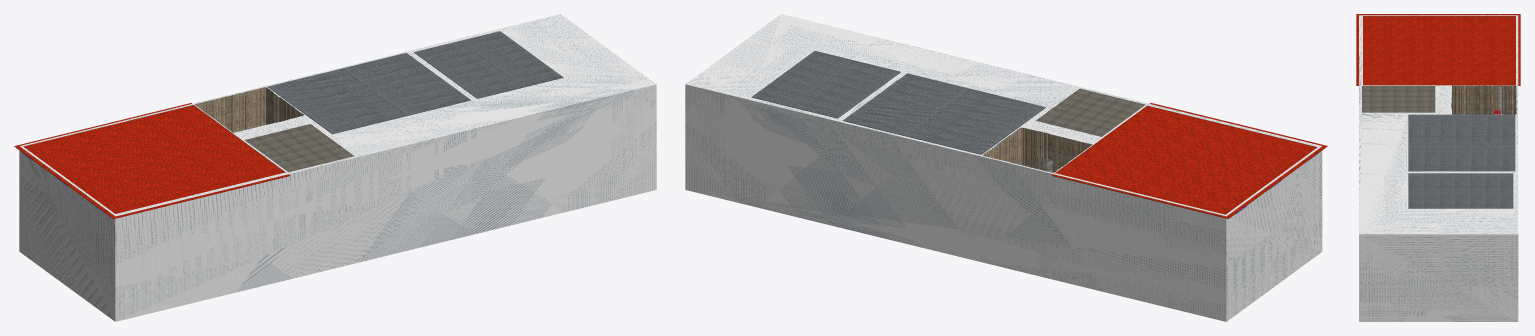
The model's file is roomWithRoof.dae.
3 renders of one model, left to right at view 1: azimuth 30°, elevation 25°; view 2: azimuth 150°, elevation 25°; view 3: azimuth 270°, elevation 25°, orthographic. The views are drawn at different scales.
Visible parts, largest first — view 1: room (×2), roof1 (×4); view 2: room (×2), roof1 (×4); view 3: room (×5), roof1 (×4).
Boxes of the visible parts, left/top/right/bottom form: room (×2): left=19, top=14, right=656, bottom=321; roof1 (×4): left=14, top=31, right=563, bottom=218; room (×2): left=685, top=14, right=1322, bottom=321; roof1 (×4): left=751, top=51, right=1327, bottom=218; room (×5): left=1359, top=15, right=1518, bottom=321; roof1 (×4): left=1356, top=14, right=1520, bottom=208.
Size of the model in its own units: 3681 by 1161 by 686.
Materials: 16 (12 with a texture image).
